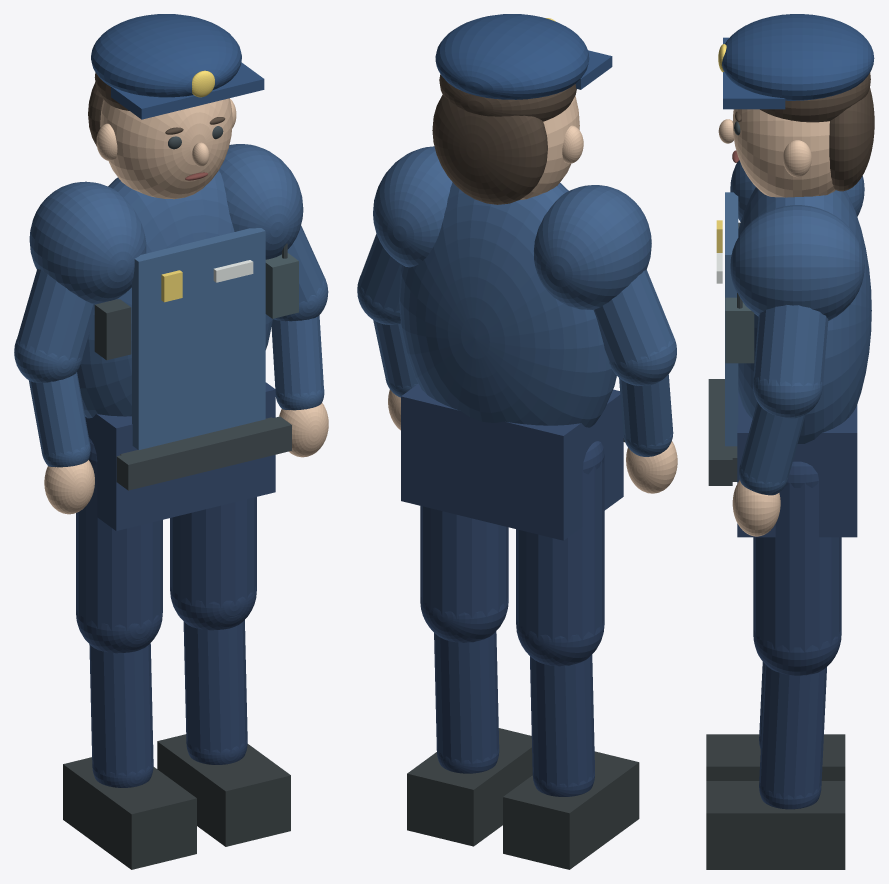
Rendered from player_police.glb.
The picture shows the model from 3 angles, left to right: view 1: azimuth 30°, elevation 25°; view 2: azimuth 150°, elevation 25°; view 3: azimuth 270°, elevation 25°; orthographic projection.
Visible parts, largest first — view 1: police_vest, shoulder_left, left_boot, police_cap, pelvis, left_trouser_upper, right_boot, torso_base, head, right_trouser_upper, left_trouser_lower, right_trouser_lower (+23 smaller); view 2: torso_base, pelvis, shoulder_left, police_cap, left_trouser_upper, left_boot, hair_back, right_boot, right_trouser_upper, right_trouser_lower, left_trouser_lower, shoulder_right (+15 smaller); view 3: shoulder_right, right_trouser_upper, right_boot, police_cap, torso_base, right_trouser_lower, head, pelvis, right_upper_arm, left_boot, right_forearm, hair_back (+13 smaller).
Part boxes in pixels (left/top/right/bottom): police_vest: left=132, top=228, right=265, bottom=449; shoulder_left: left=29, top=181, right=146, bottom=304; left_boot: left=63, top=757, right=196, bottom=869; police_cap: left=91, top=14, right=241, bottom=97; pelvis: left=85, top=382, right=275, bottom=530; left_trouser_upper: left=76, top=462, right=162, bottom=630; right_boot: left=157, top=734, right=290, bottom=846; torso_base: left=77, top=170, right=272, bottom=418; head: left=100, top=98, right=232, bottom=199; right_trouser_upper: left=170, top=497, right=256, bottom=607; left_trouser_lower: left=89, top=643, right=153, bottom=776; right_trouser_lower: left=183, top=620, right=247, bottom=754; torso_base: left=399, top=182, right=616, bottom=427; pelvis: left=401, top=384, right=623, bottom=540; shoulder_left: left=534, top=185, right=651, bottom=309; police_cap: left=435, top=14, right=589, bottom=99; left_trouser_upper: left=516, top=455, right=604, bottom=642; left_boot: left=503, top=751, right=639, bottom=869; hair_back: left=432, top=95, right=547, bottom=204; right_boot: left=407, top=728, right=532, bottom=846; right_trouser_upper: left=420, top=506, right=508, bottom=618; right_trouser_lower: left=434, top=631, right=499, bottom=764; left_trouser_lower: left=530, top=654, right=594, bottom=787; shoulder_right: left=373, top=146, right=452, bottom=267; shoulder_right: left=730, top=205, right=864, bottom=320; right_trouser_upper: left=753, top=481, right=841, bottom=652; right_boot: left=706, top=781, right=845, bottom=869; police_cap: left=722, top=14, right=874, bottom=100; torso_base: left=738, top=187, right=871, bottom=443; right_trouser_lower: left=759, top=664, right=826, bottom=799; head: left=732, top=109, right=835, bottom=197; pelvis: left=737, top=392, right=857, bottom=537; right_upper_arm: left=753, top=305, right=828, bottom=387; left_boot: left=706, top=734, right=845, bottom=780; right_forearm: left=740, top=402, right=805, bottom=485; hair_back: left=829, top=87, right=874, bottom=191.
Bounding box in the file's own units: 0.7449 × 1.84 × 0.351.
